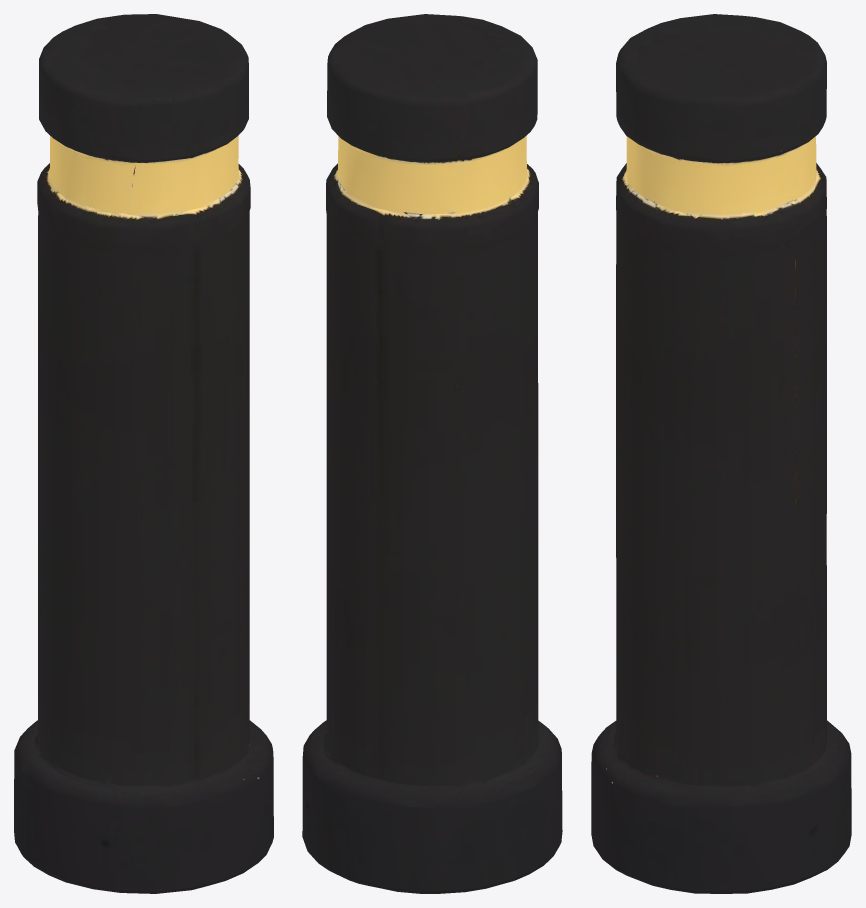
The model's file is bollard.glb.
The picture shows the model from 3 angles, left to right: view 1: azimuth 30°, elevation 25°; view 2: azimuth 150°, elevation 25°; view 3: azimuth 270°, elevation 25°; orthographic projection.
Visible parts, largest first — view 1: body, light; view 2: body, light; view 3: body, light.
Part boxes in pixels (box(x1,y1,x2,y2)): body: box(14, 14, 273, 893); light: box(47, 135, 241, 218); body: box(302, 14, 562, 893); light: box(334, 136, 529, 219); body: box(591, 14, 851, 893); light: box(626, 136, 816, 218).
Bounding box in the file's own units: 0.2696 × 0.8999 × 0.2697.
Materials: 1 (1 with a texture image).
